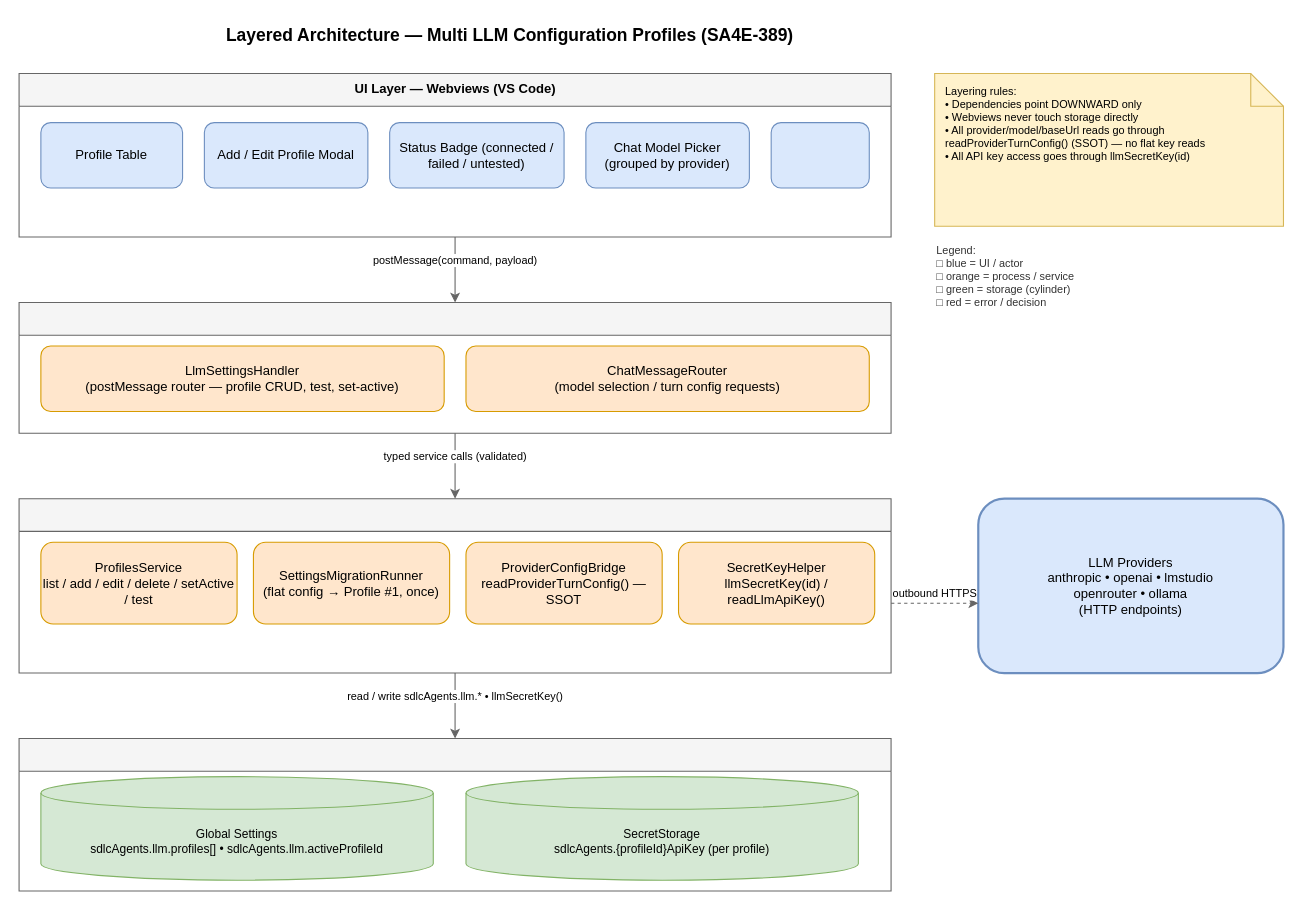
Image size: 1304x910. Some labels were removed from this diagram. Here are the shapes that lost their labels. From the top down, the box of each, then its label:
(770, 122, 869, 188): Test Connection Button
(18, 301, 891, 433): Message Handler Layer (extension host side)
(18, 498, 891, 673): Service Layer — Configuration Domain
(18, 737, 891, 891): Storage Layer — VS Code Platform
